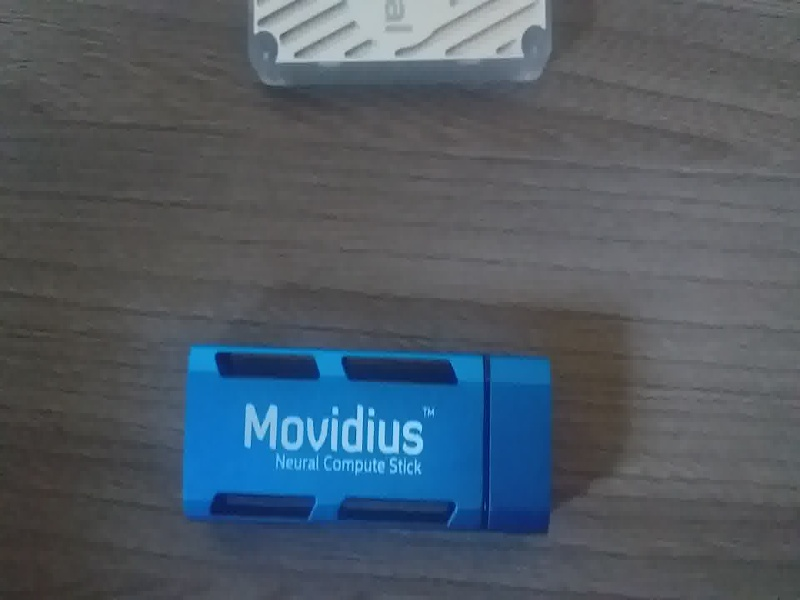coral: (239, 1, 560, 107)
movidius: (173, 337, 568, 543)
